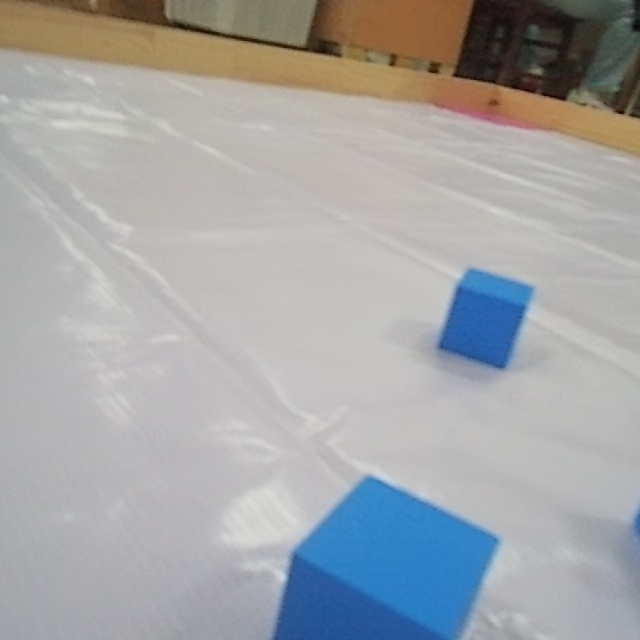green: (262, 466, 505, 637), (429, 258, 534, 377)
